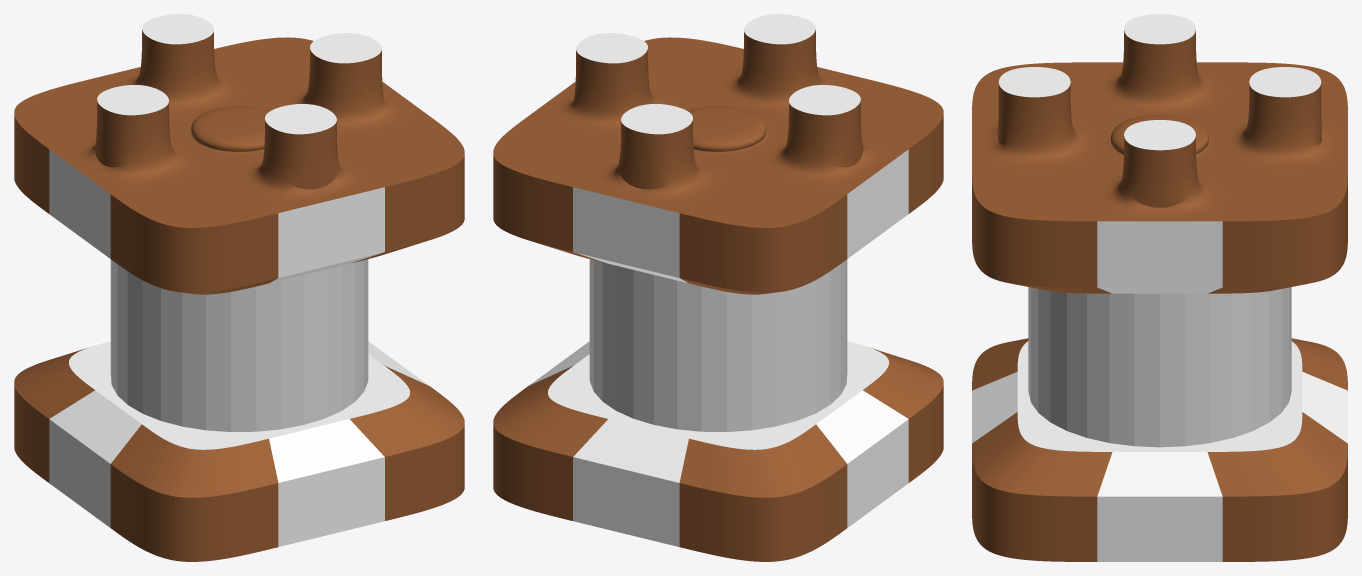
The model's file is Generador7.fbx.
3 renders of one model, left to right at view 1: azimuth 30°, elevation 25°; view 2: azimuth 150°, elevation 25°; view 3: azimuth 270°, elevation 25°, orthographic.
Visible parts, largest first — view 1: Bases, Vidrio; view 2: Bases, Vidrio; view 3: Bases, Vidrio.
Boxes of the visible parts, x1,y1,x2,y2 form: Bases: (14,14,464,561); Vidrio: (110,259,368,431); Bases: (493,14,943,561); Vidrio: (589,259,847,431); Bases: (972,14,1347,561); Vidrio: (1028,287,1291,447).
Bounding box in the file's own units: 200 × 235 × 200.
